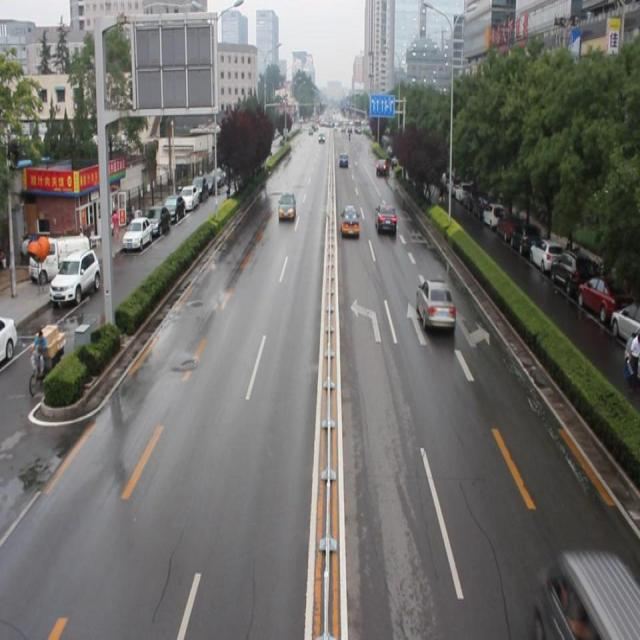car: (415, 276, 454, 331), (373, 201, 397, 238), (340, 203, 360, 239), (276, 192, 295, 220), (374, 157, 389, 178)
truck: (530, 551, 640, 640)
